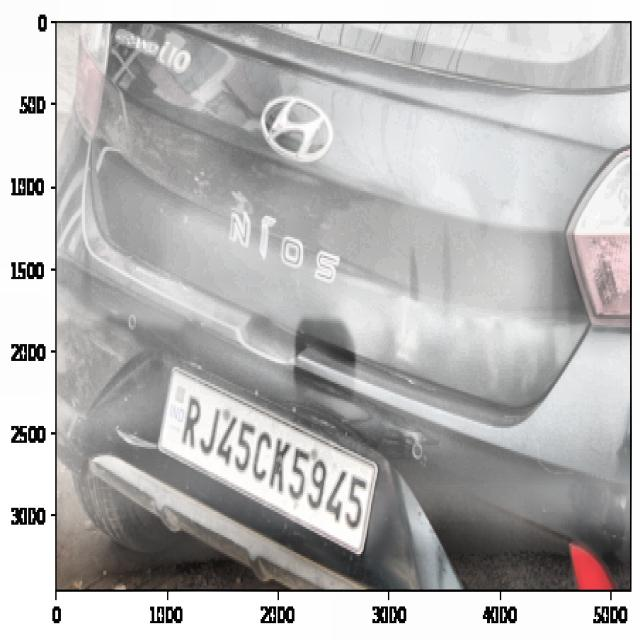license_plate: (178, 386, 369, 538)
